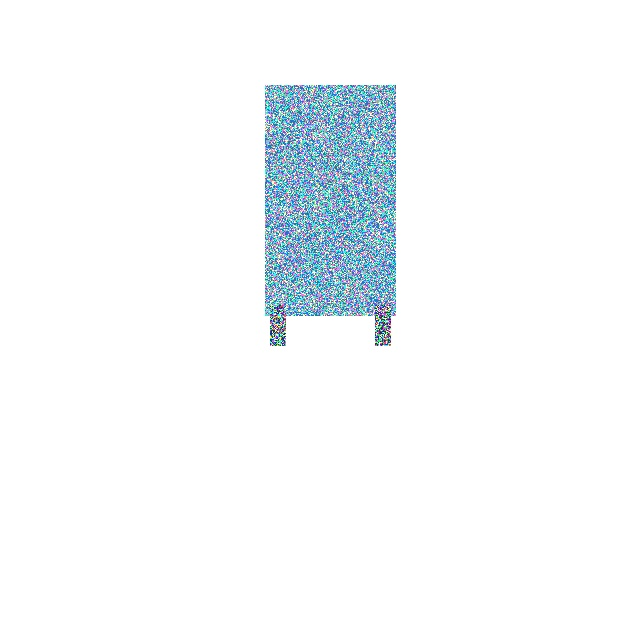Table: (265, 84, 395, 316)
